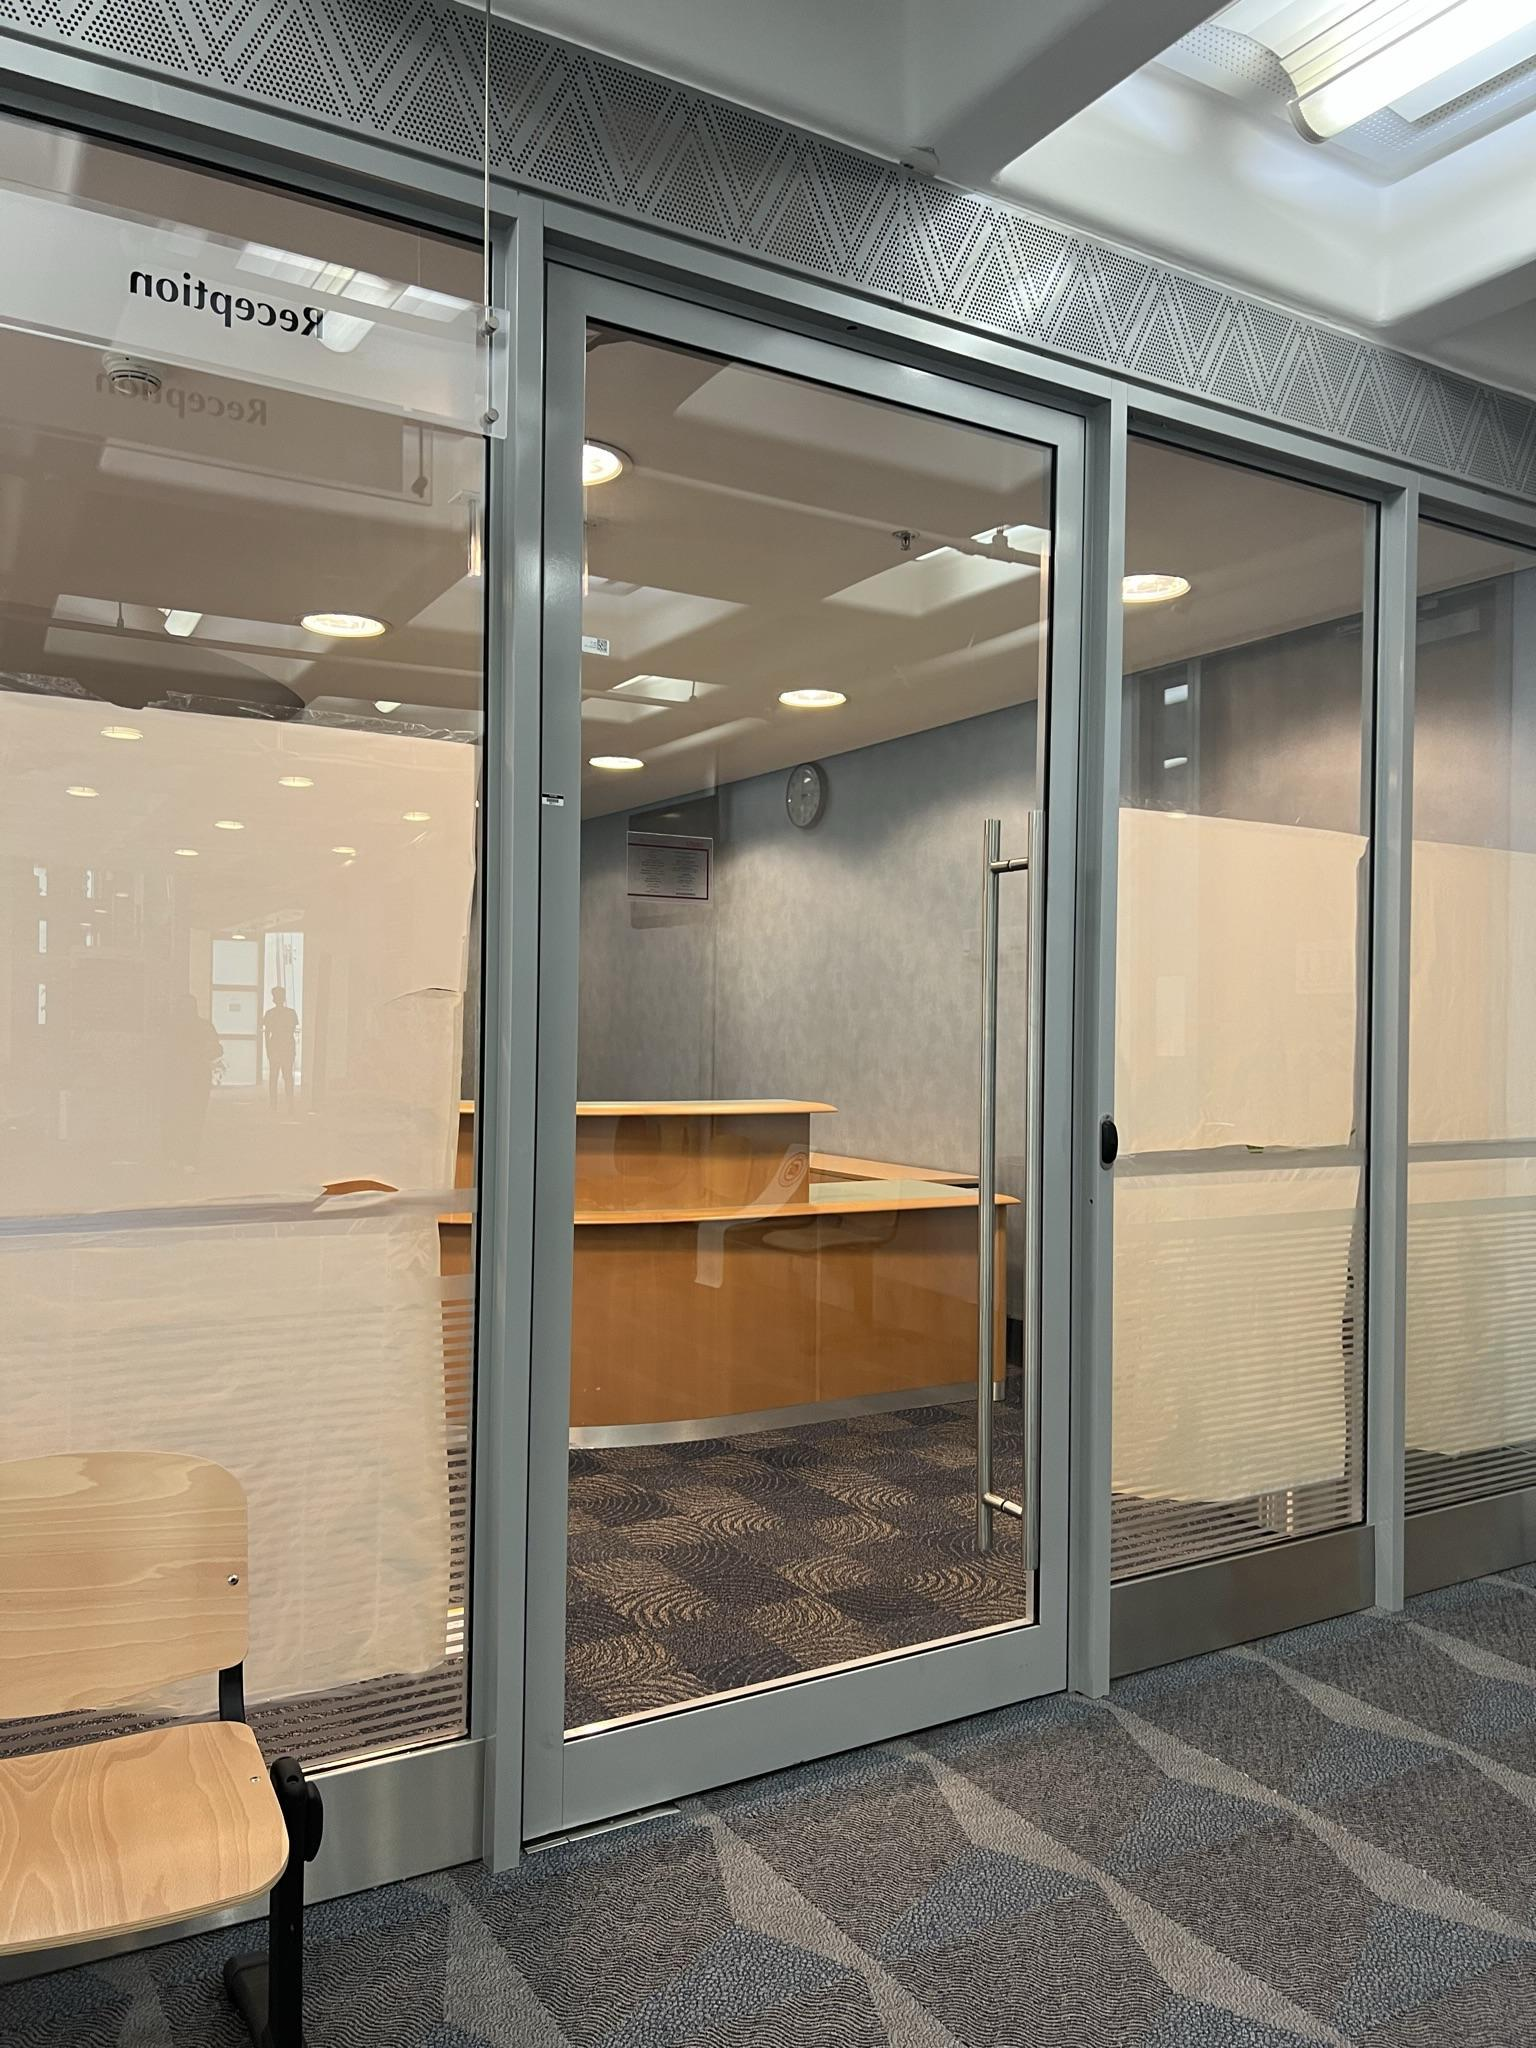door: (490, 361, 1104, 1830)
handle: (995, 797, 1049, 1574)
